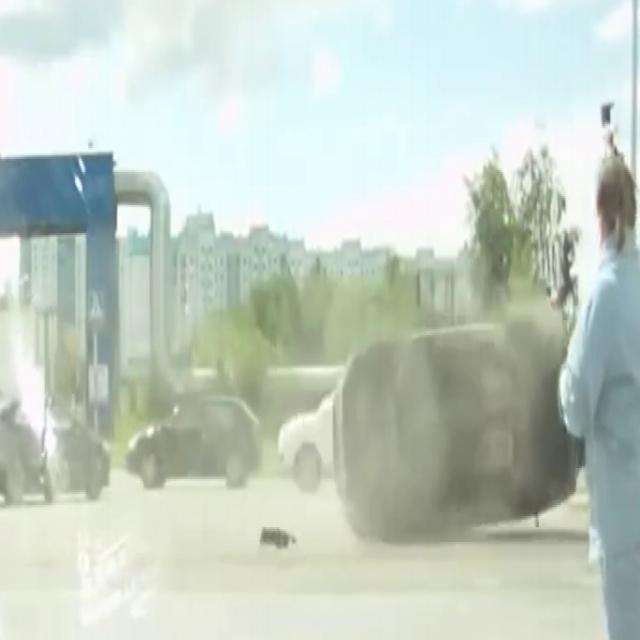accident: (321, 287, 590, 542)
